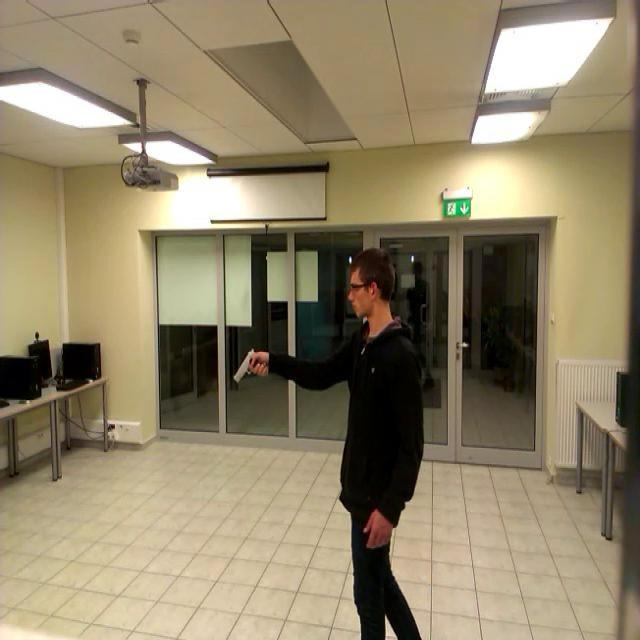weapon: (230, 349, 268, 381)
